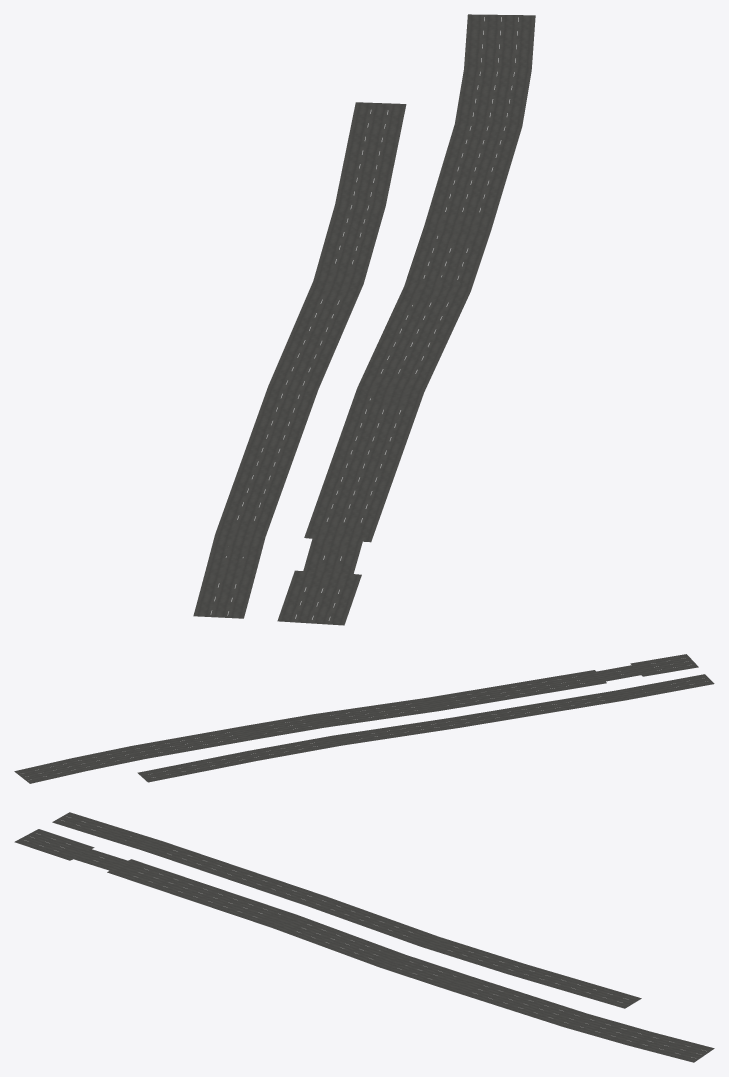
The picture shows the model from 3 angles, top to bottom: view 1: azimuth 30°, elevation 25°; view 2: azimuth 150°, elevation 25°; view 3: azimuth 270°, elevation 25°; orthographic projection. The views are drawn at different scales.
Visible parts, largest first — view 1: Beach Road asphalt, Beach Road worn lane markings; view 2: Beach Road asphalt, Beach Road worn lane markings; view 3: Beach Road asphalt, Beach Road worn lane markings.
Part boxes in pixels (x1,y1,x2,y2): Beach Road asphalt: (193, 14, 535, 625); Beach Road worn lane markings: (210, 17, 518, 620); Beach Road asphalt: (14, 654, 714, 783); Beach Road worn lane markings: (22, 658, 707, 780); Beach Road asphalt: (14, 812, 714, 1062); Beach Road worn lane markings: (24, 816, 706, 1058).
Bounding box in the file's own units: 187 × 0.0775 × 221.
2 materials, 2 textured.
